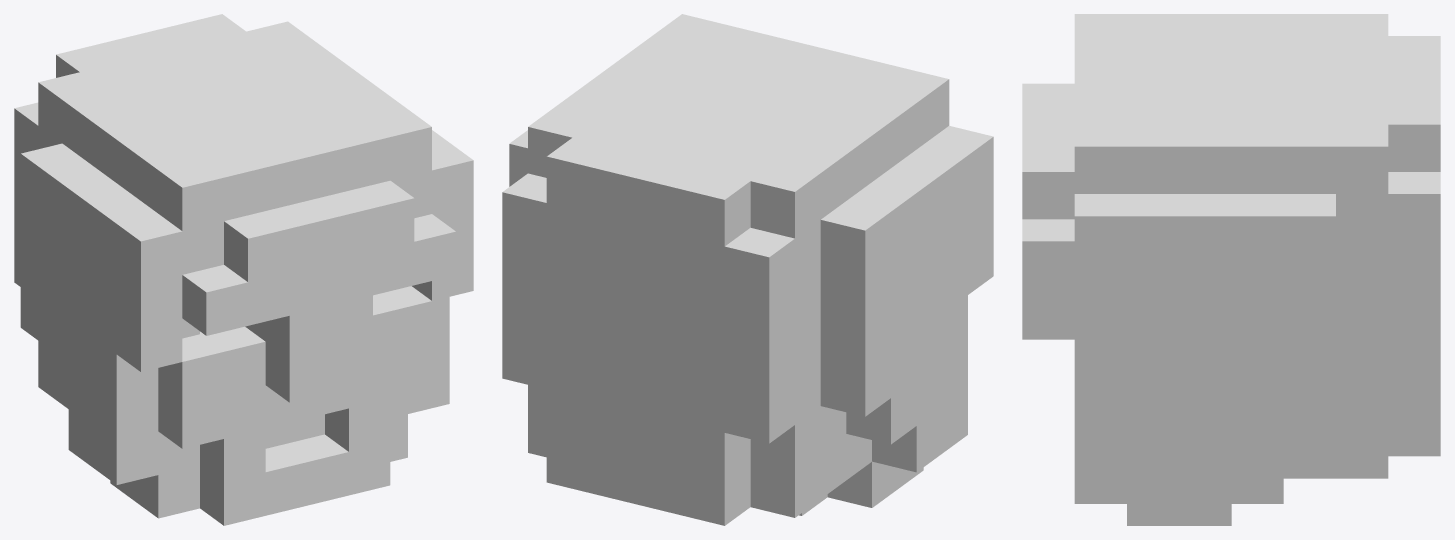
Rendered from head.obj.
The picture shows the model from 3 angles, left to right: view 1: azimuth 30°, elevation 25°; view 2: azimuth 150°, elevation 25°; view 3: azimuth 270°, elevation 25°; orthographic projection. The views are drawn at different scales.
Size of the model in its own units: 8 by 8 by 8.
1 material, 1 textured.
